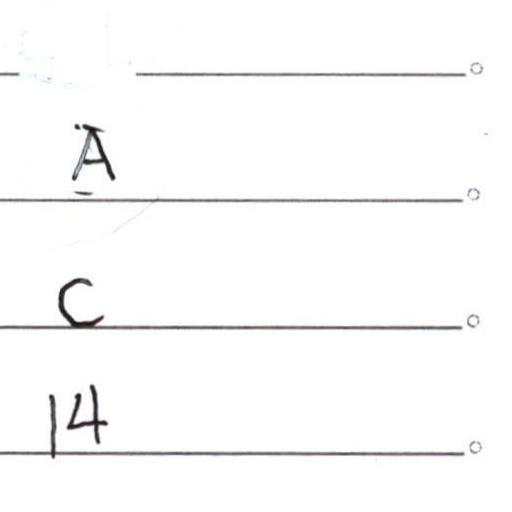ans: (44, 381, 108, 455), (55, 276, 106, 329), (71, 123, 115, 183)
